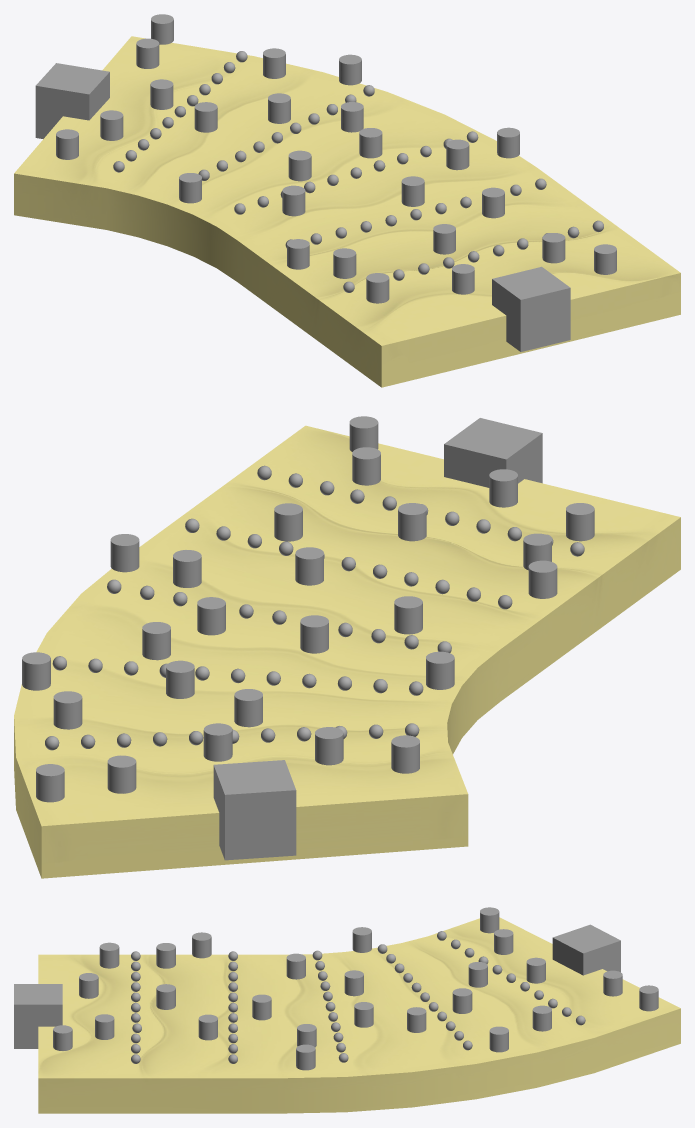
Rendered from assets002_Streckenteil_links002.fbx.
3 renders of one model, top to bottom at view 1: azimuth 30°, elevation 25°; view 2: azimuth 150°, elevation 25°; view 3: azimuth 270°, elevation 25°, orthographic. The views are drawn at different scales.
Parts seen in each view (by area): view 1: streckenteil_linkskurve_geo2, a (×12), b (×9), startpoint, endpoint, c (×4); view 2: streckenteil_linkskurve_geo2, a (×12), b (×9), endpoint, startpoint, c (×4); view 3: streckenteil_linkskurve_geo2, a (×12), b (×9), endpoint, startpoint, c (×4).
Boxes of the visible parts, x1,y1,x2,y2 form: streckenteil_linkskurve_geo2: (14, 36, 680, 387); a (×12): (100, 48, 616, 303); b (×9): (150, 54, 504, 278); startpoint: (492, 266, 570, 351); endpoint: (35, 63, 109, 138); c (×4): (56, 14, 363, 159); streckenteil_linkskurve_geo2: (14, 425, 680, 878); a (×12): (53, 416, 594, 765); b (×9): (22, 503, 551, 761); endpoint: (213, 760, 296, 860); startpoint: (444, 418, 542, 487); c (×4): (36, 622, 419, 802); streckenteil_linkskurve_geo2: (38, 917, 680, 1113); a (×12): (53, 929, 551, 1070); b (×9): (156, 927, 545, 1052); endpoint: (552, 924, 620, 975); startpoint: (14, 984, 62, 1048); c (×4): (407, 907, 658, 1032).
Size of the model in its own units: 39.93 by 6.68 by 68.46.
